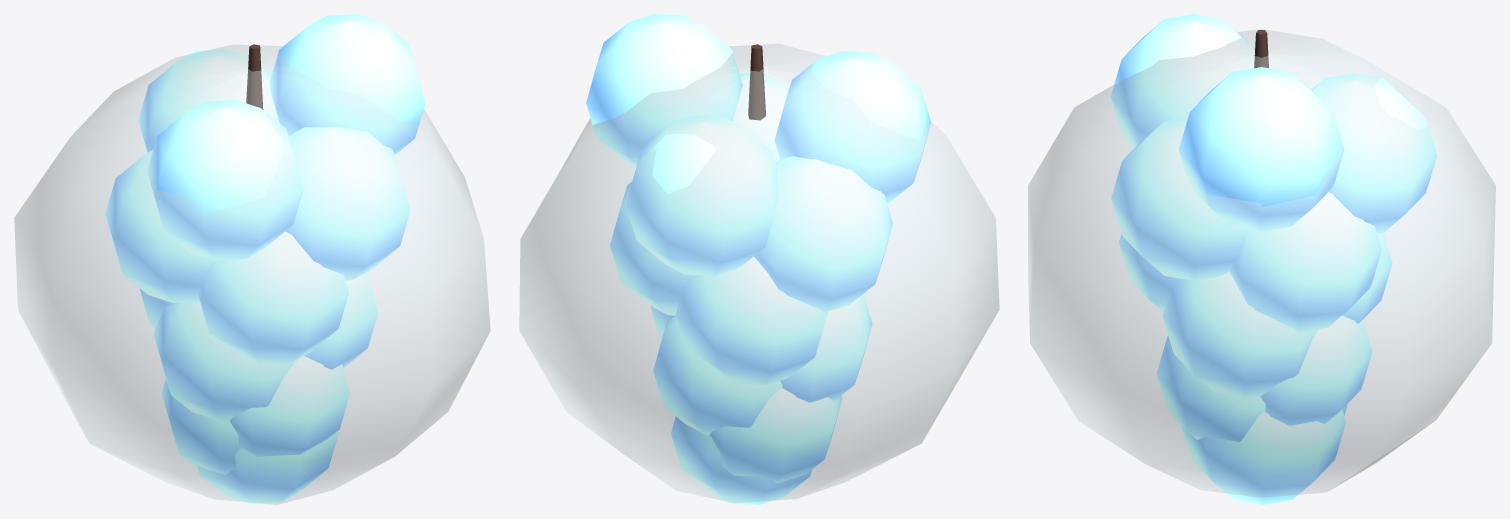
File: fruit-grape-frozen.gltf
The picture shows the model from 3 angles, left to right: view 1: azimuth 30°, elevation 25°; view 2: azimuth 150°, elevation 25°; view 3: azimuth 270°, elevation 25°; orthographic projection. The views are drawn at different scales.
Bounding box in the file's own units: 0.3927 × 0.4167 × 0.3794.
